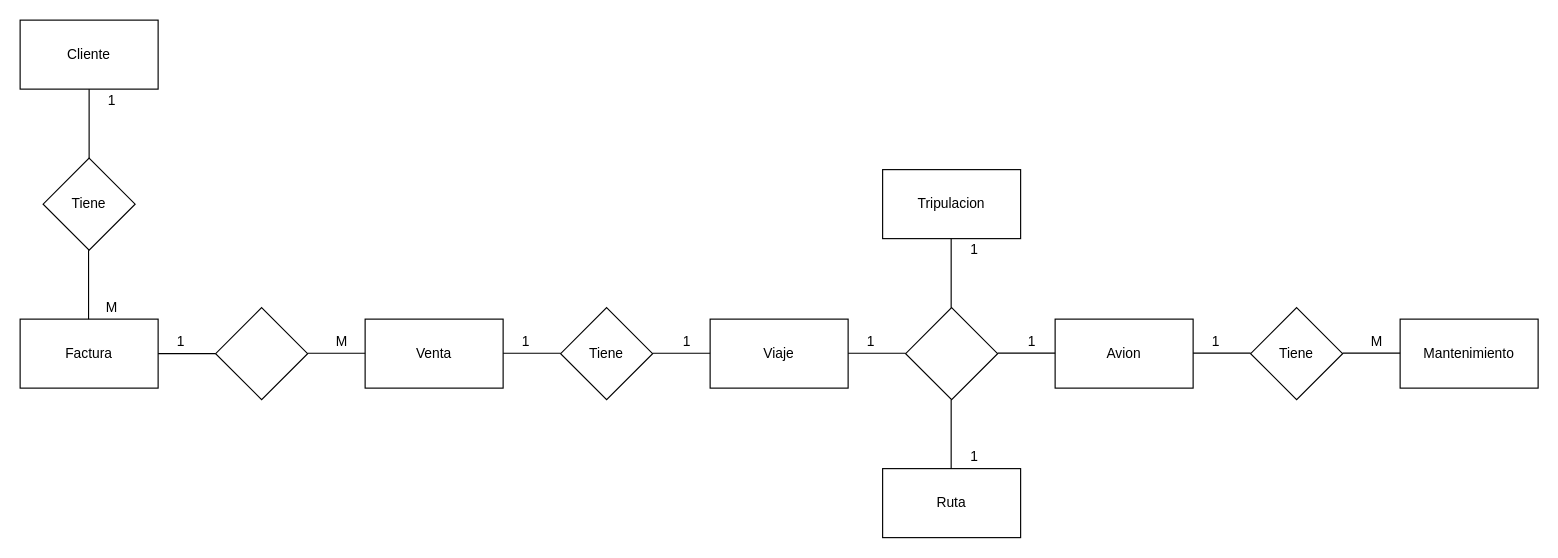
Some shapes in this 1558 by 558 pixel diagram are drawn without their labels. The shapes that lost their labels are listed below. From the top down, each one's box as (x1, y1, x2, y2) in pixels, then its label:
(214, 306, 308, 400): Posee
(904, 306, 998, 400): Cuenta con
